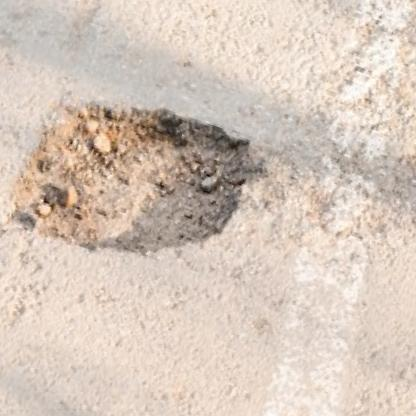pothole: (2, 67, 267, 299)
